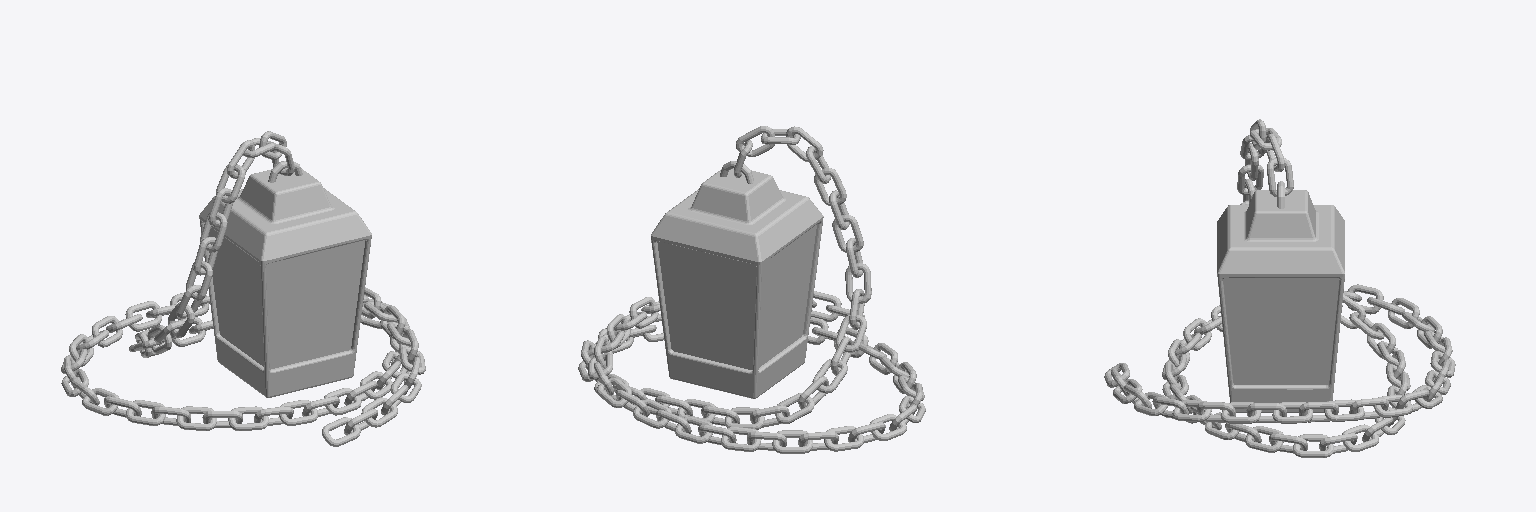
File: lantern.obj
The picture shows the model from 3 angles: view 1: azimuth 30°, elevation 25°; view 2: azimuth 150°, elevation 25°; view 3: azimuth 270°, elevation 25°; orthographic projection.
Parts seen in each view (by area): view 1: chain_Plane.005, Plane_Plane.001, Plane.001_Plane.002; view 2: chain_Plane.005, Plane_Plane.001, Plane.001_Plane.002; view 3: chain_Plane.005, Plane_Plane.001, Plane.001_Plane.002.
Part boxes in pixels (bbox=[...]): chain_Plane.005: bbox=[61, 131, 425, 446]; Plane_Plane.001: bbox=[199, 161, 371, 397]; Plane.001_Plane.002: bbox=[208, 228, 364, 369]; chain_Plane.005: bbox=[578, 126, 925, 453]; Plane_Plane.001: bbox=[651, 161, 823, 398]; Plane.001_Plane.002: bbox=[657, 225, 816, 369]; chain_Plane.005: bbox=[1104, 119, 1455, 457]; Plane_Plane.001: bbox=[1217, 181, 1344, 412]; Plane.001_Plane.002: bbox=[1223, 278, 1338, 384].
Bounding box in the file's own units: 3.66 × 2.71 × 3.41.